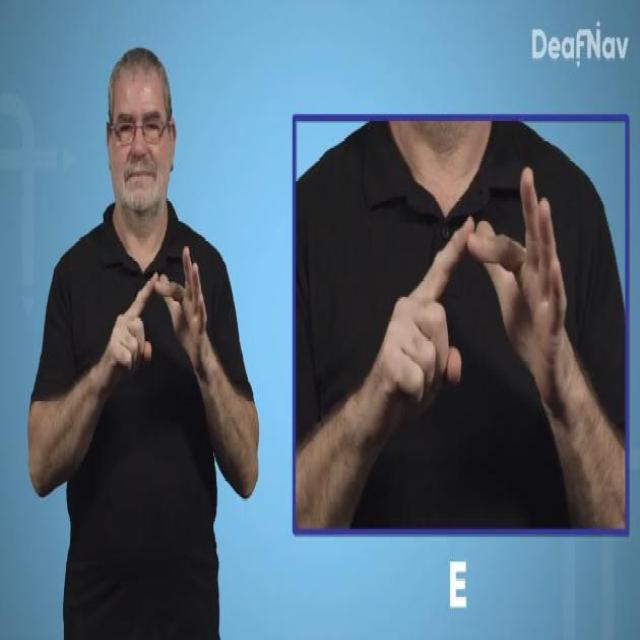E: (384, 162, 570, 436), (105, 243, 213, 379)
